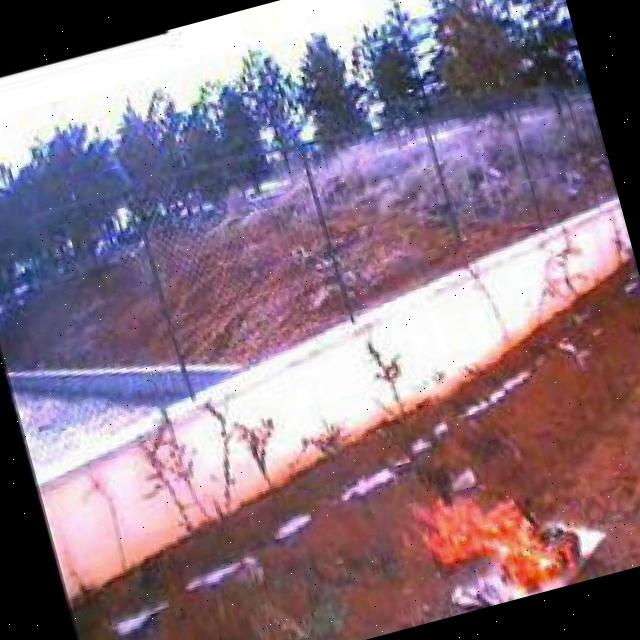fire: (402, 462, 585, 620)
